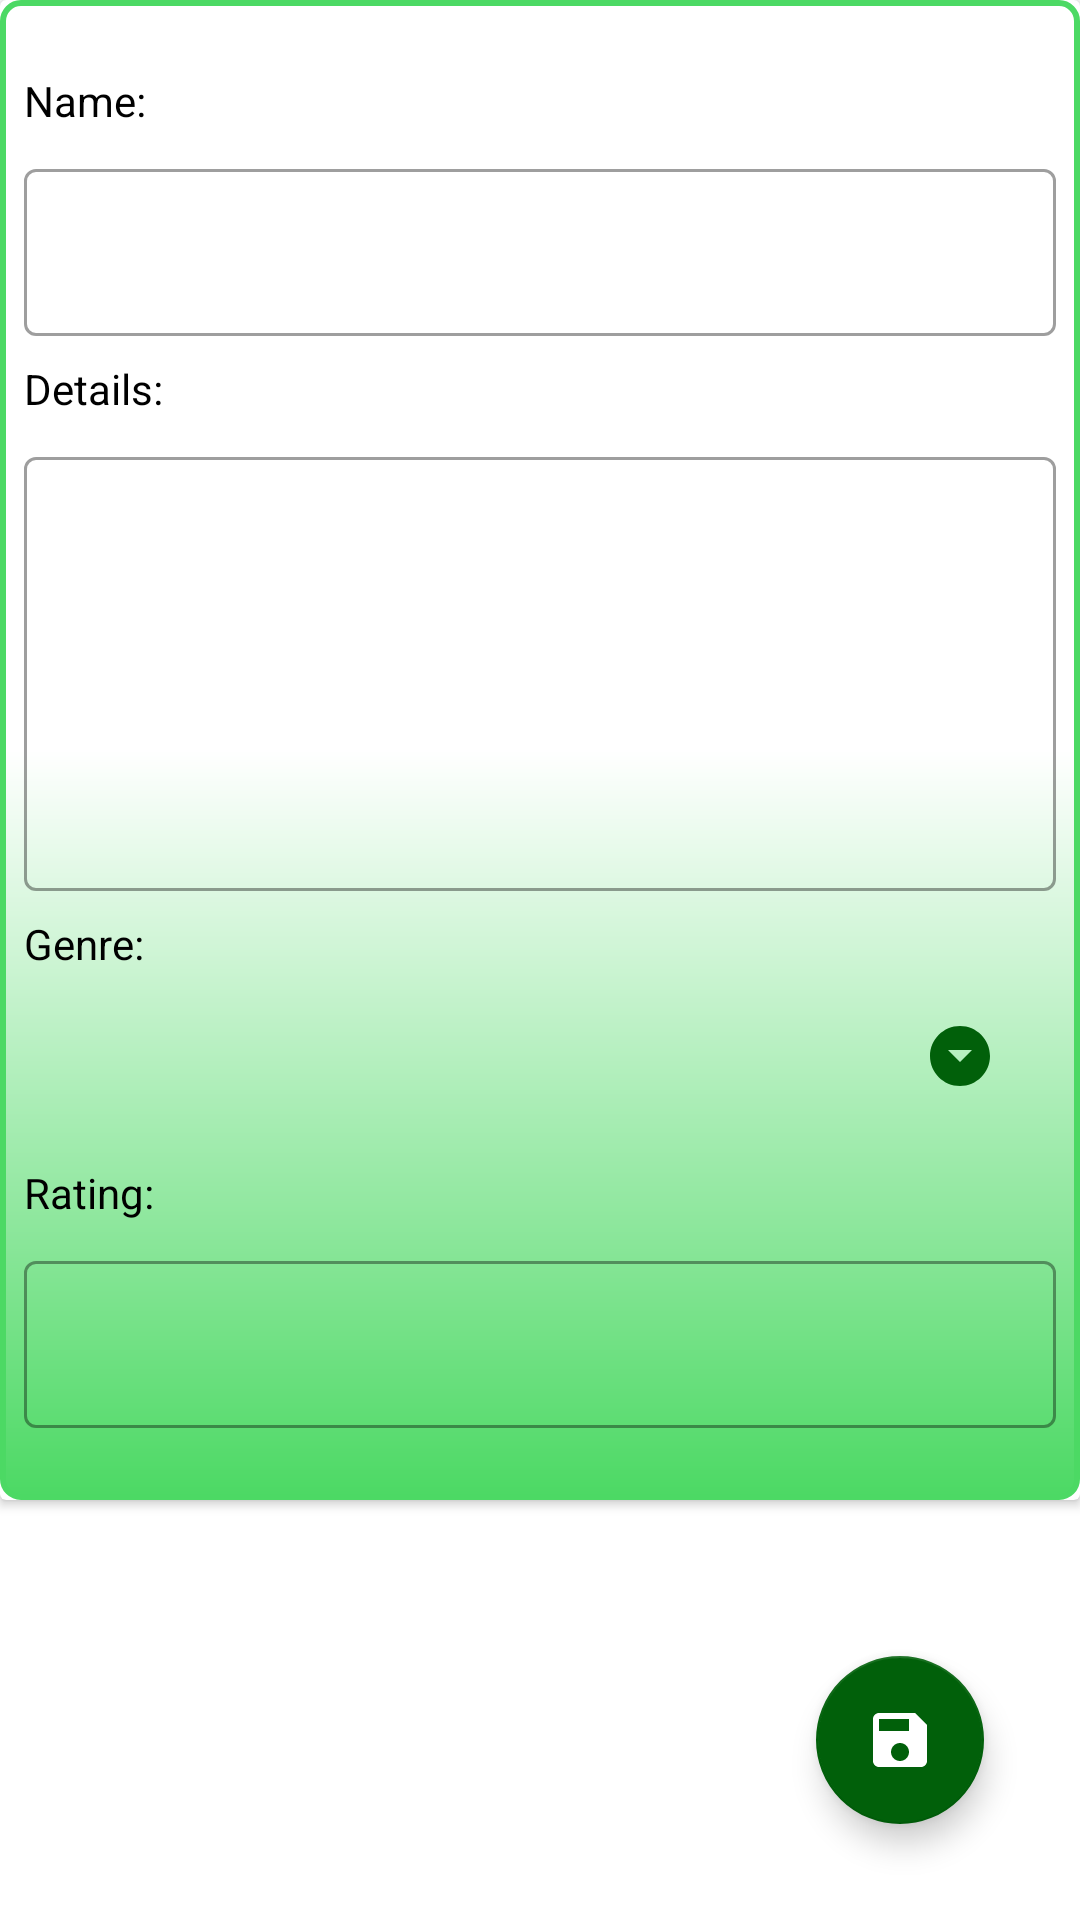

Screen size 1080px x 1920px. Icon name, then its center in pixels as [x,y]:
Add Game: [900,1740]
